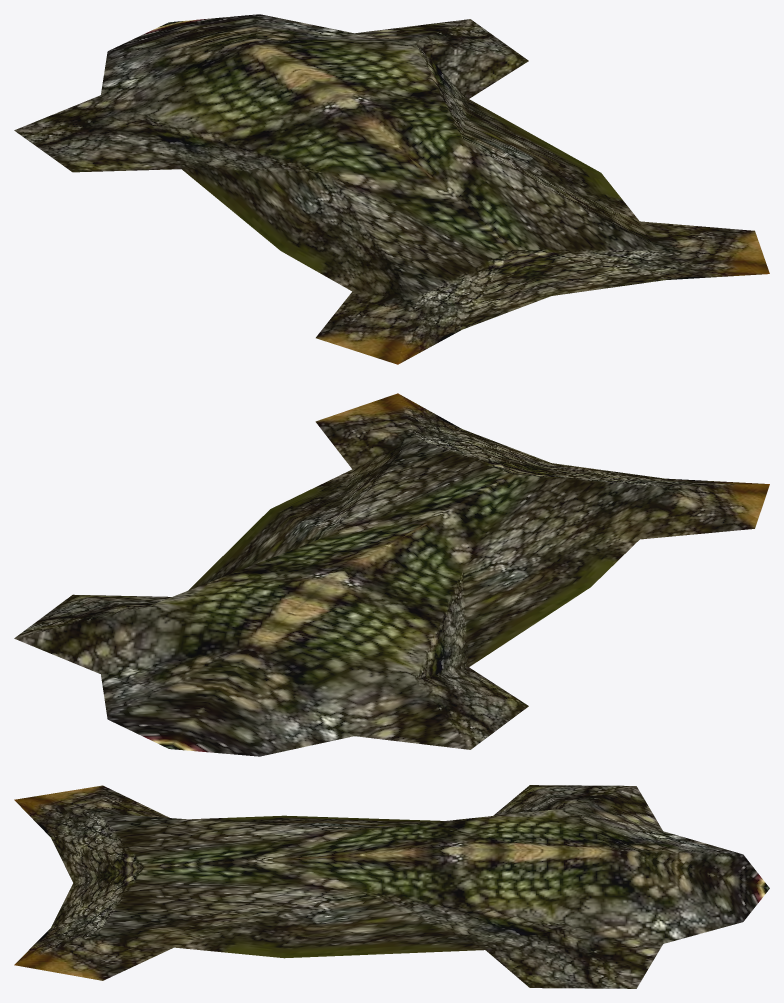
File: SKORA_GAD.glb
The picture shows the model from 3 angles, top to bottom: view 1: azimuth 30°, elevation 25°; view 2: azimuth 150°, elevation 25°; view 3: azimuth 270°, elevation 25°; orthographic projection. The views are drawn at different scales.
Visible parts, largest first — view 1: SKORA_GAD; view 2: SKORA_GAD; view 3: SKORA_GAD.
Part boxes in pixels (x1,y1,x2,y2): SKORA_GAD: (14, 14, 769, 364); SKORA_GAD: (14, 393, 769, 756); SKORA_GAD: (14, 785, 769, 988).
Bounding box in the file's own units: 1.08 × 0.1031 × 1.7.
1 material, 1 textured.
